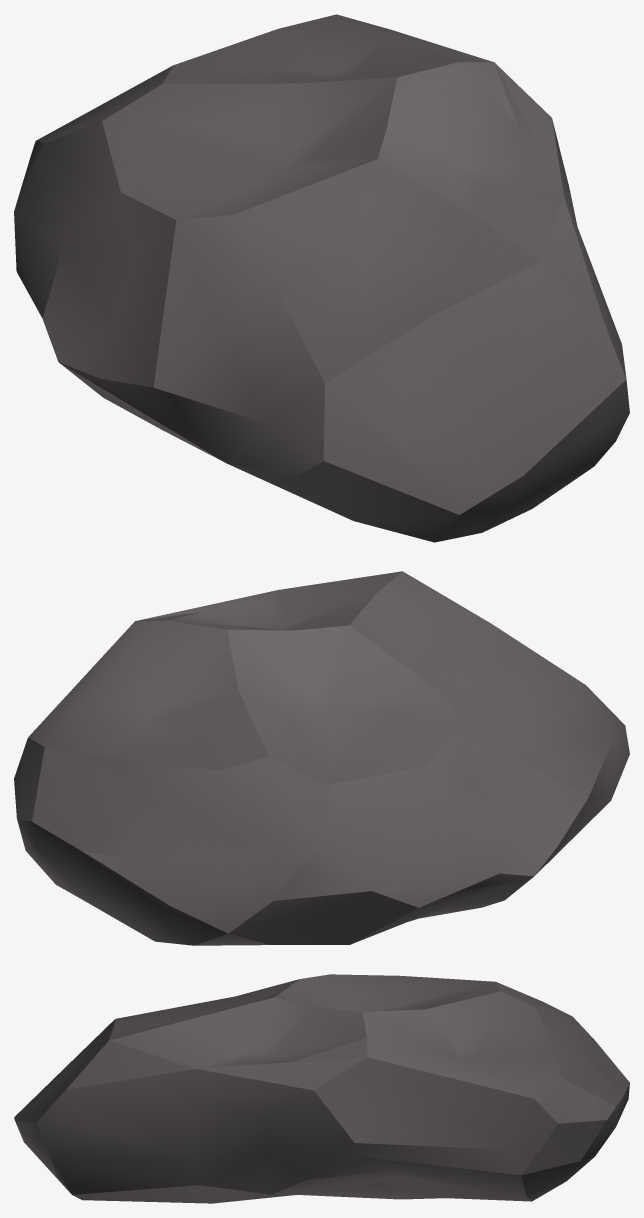
File: Rocks02.fbx
The picture shows the model from 3 angles, top to bottom: view 1: azimuth 30°, elevation 25°; view 2: azimuth 150°, elevation 25°; view 3: azimuth 270°, elevation 25°; orthographic projection. The views are drawn at different scales.
Visible parts, largest first — view 1: Rock.002; view 2: Rock.002; view 3: Rock.002.
Boxes of the visible parts, <box> form: Rock.002: <box>14,14,629,542</box>; Rock.002: <box>14,571,629,945</box>; Rock.002: <box>14,974,629,1203</box>.
Size of the model in its own units: 1.64 by 0.9972 by 2.48.
